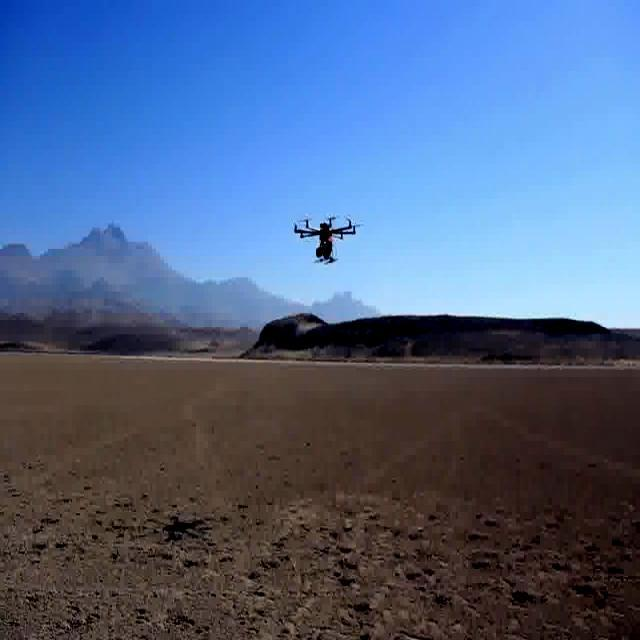drone: (290, 207, 362, 271)
